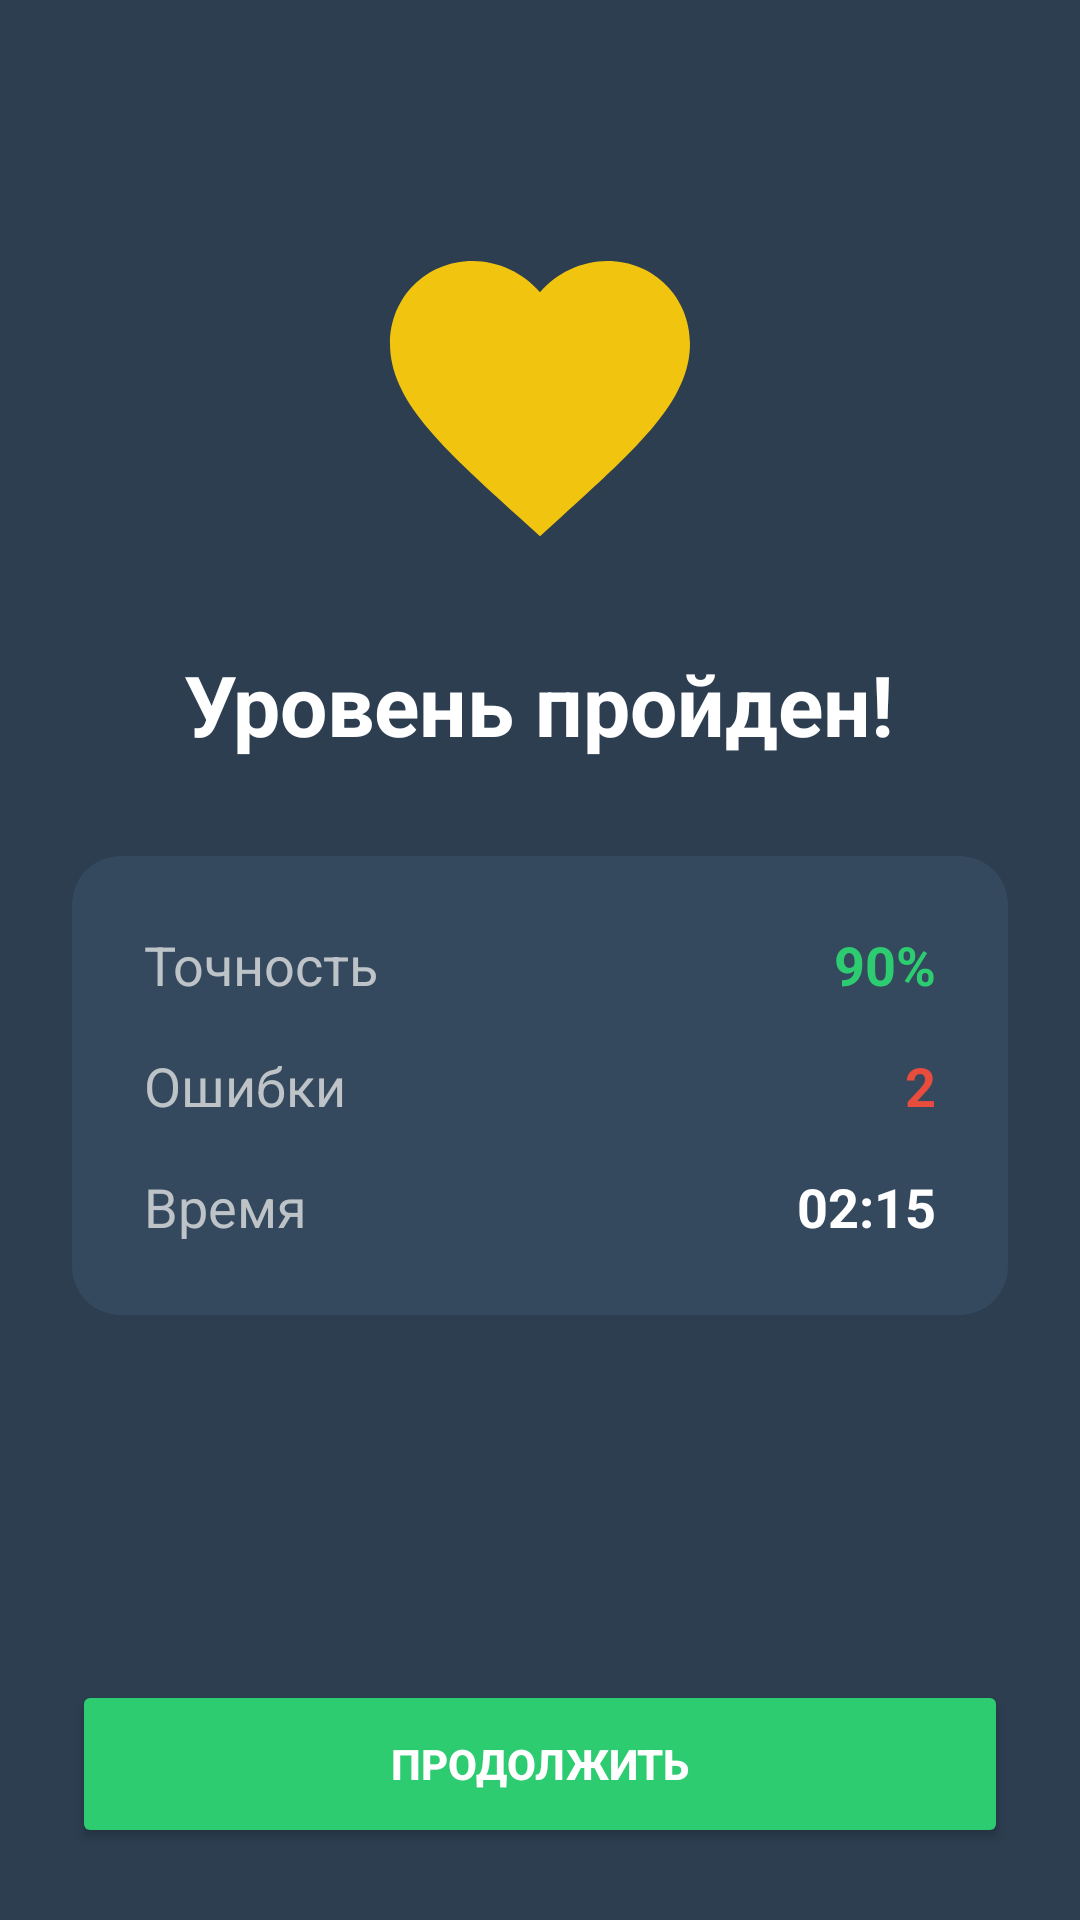

Where to tap for icons on this 1080px x 1920px app screen, as [x,y]:
heart full: [540,398]
